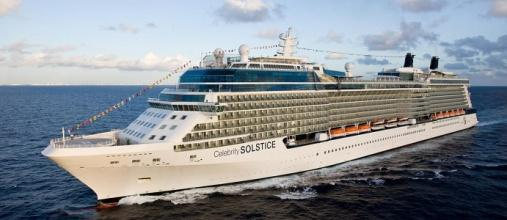youlun: (40, 28, 481, 201)
